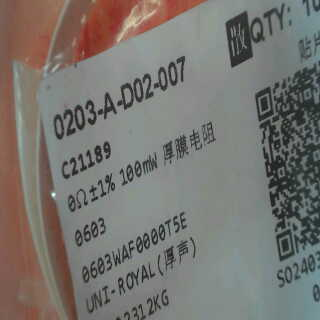0R: (63, 167, 120, 246)
